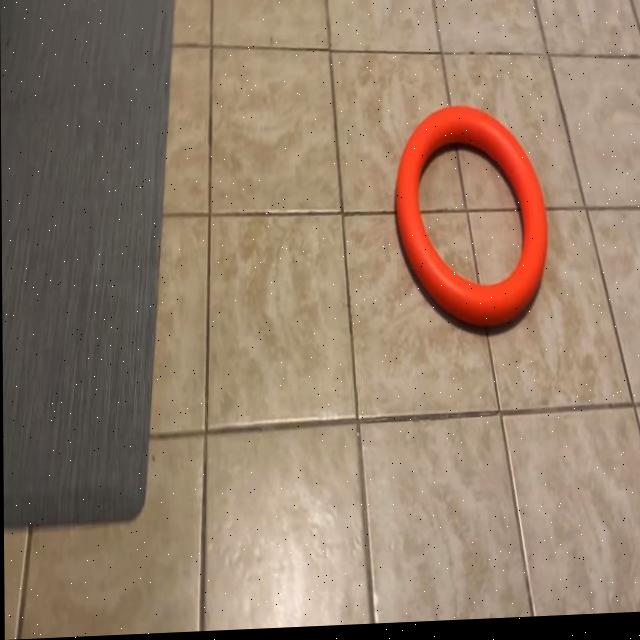note: (394, 98, 548, 344)
